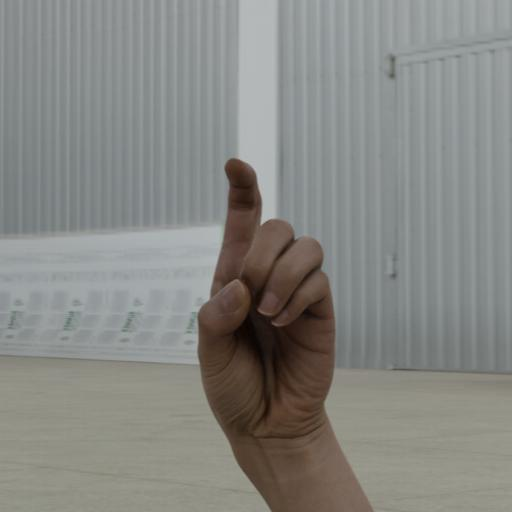X: (168, 146, 358, 458)
